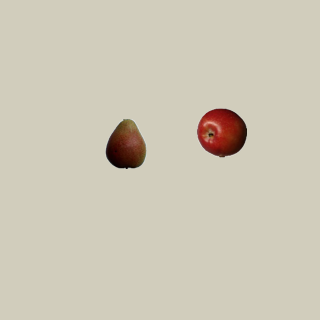Apple Braeburn: (196, 107, 246, 157)
Pear Forelle: (100, 118, 150, 168)
